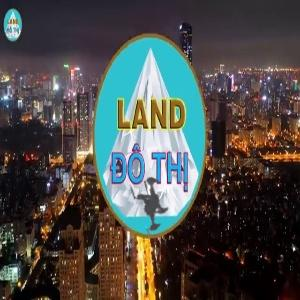drone: (104, 150, 210, 256)
